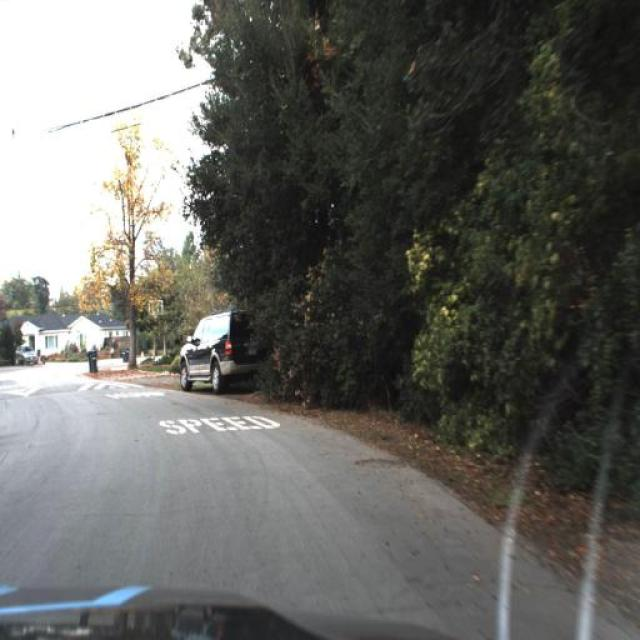car: (173, 297, 271, 405), (11, 337, 40, 374)
